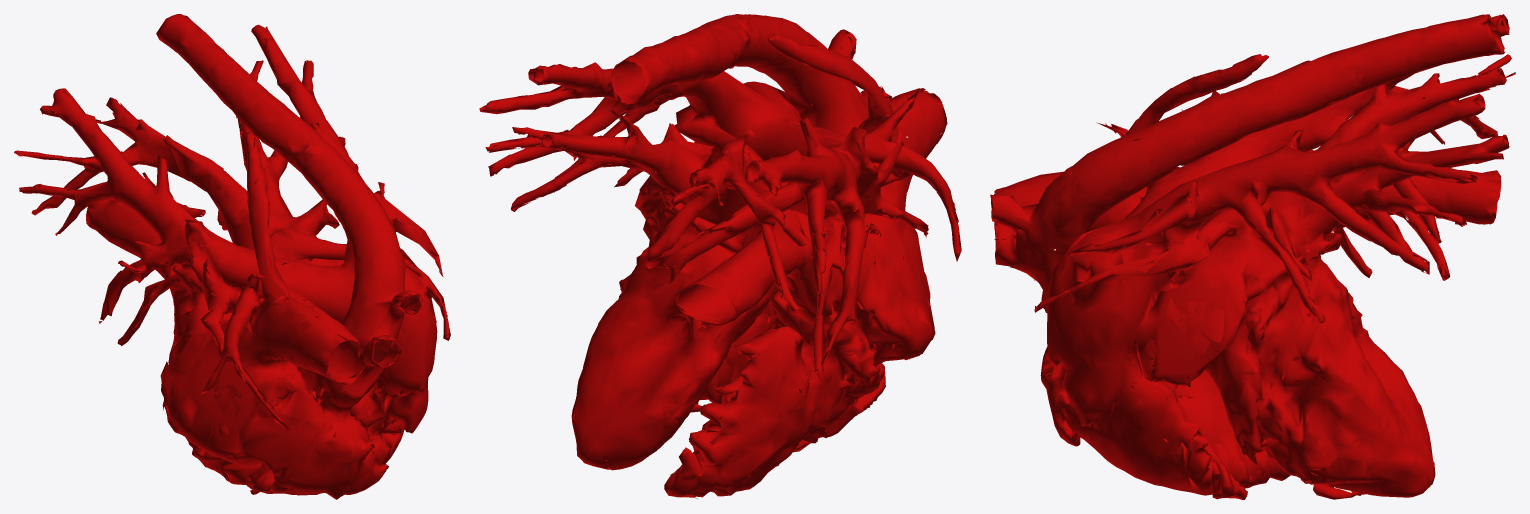
Rendered from heart.glb.
The picture shows the model from 3 angles, left to right: view 1: azimuth 30°, elevation 25°; view 2: azimuth 150°, elevation 25°; view 3: azimuth 270°, elevation 25°; orthographic projection. The views are drawn at different scales.
Visible parts, largest first — view 1: Object_10, Object_7, Object_8, Object_6, Object_2, Object_5, Object_3, Object_15, Object_4, Object_9, Object_13, Object_11 (+2 smaller); view 2: Object_6, Object_10, Object_2, Object_7, Object_5, Object_3, Object_8, Object_4, Object_15, Object_9, Object_11, Object_12 (+2 smaller); view 3: Object_8, Object_7, Object_9, Object_6, Object_2, Object_4, Object_5, Object_3, Object_10, Object_15, Object_11, Object_12 (+2 smaller).
Part boxes in pixels (x1,y1,x2,y2): Object_10: (50,71,420,480); Object_7: (38,103,346,483); Object_8: (185,121,437,495); Object_6: (55,167,422,499); Object_2: (86,14,396,447); Object_5: (19,126,403,482); Object_3: (14,60,339,409); Object_15: (32,114,324,495); Object_4: (40,24,380,480); Object_9: (137,61,450,460); Object_13: (191,187,449,495); Object_11: (127,60,402,493); Object_6: (571,29,935,495); Object_10: (488,35,958,431); Object_2: (542,19,943,470); Object_7: (489,91,961,405); Object_5: (574,14,931,497); Object_3: (485,19,942,420); Object_8: (606,35,856,491); Object_4: (479,34,931,497); Object_15: (607,33,933,498); Object_9: (492,66,947,474); Object_11: (487,58,909,489); Object_12: (639,52,918,445); Object_8: (992,129,1330,499); Object_7: (1003,74,1495,482); Object_9: (994,141,1502,493); Object_6: (990,132,1444,497); Object_2: (994,14,1509,455); Object_4: (1055,14,1509,493); Object_5: (1006,88,1489,484); Object_3: (994,54,1512,342); Object_10: (995,14,1502,335); Object_15: (1153,55,1515,499); Object_11: (996,98,1480,494); Object_12: (1048,61,1264,498).
Size of the model in its own units: 1.03 by 1.31 by 1.31.
